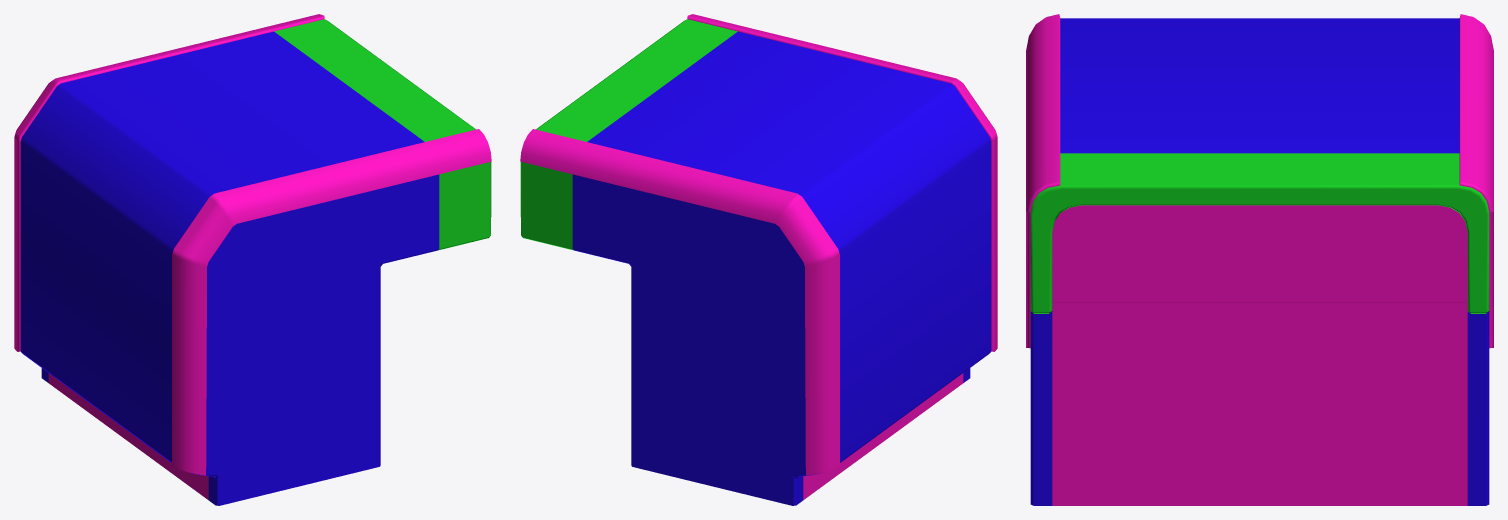
The model's file is PipeConnexion_Metal_01.fbx.
The picture shows the model from 3 angles, left to right: view 1: azimuth 30°, elevation 25°; view 2: azimuth 150°, elevation 25°; view 3: azimuth 270°, elevation 25°; orthographic projection. The views are drawn at different scales.
Parts seen in each view (by area): view 1: PipeConnexion_Metal_01_LOD0; view 2: PipeConnexion_Metal_01_LOD0; view 3: PipeConnexion_Metal_01_LOD0.
Boxes of the visible parts, x1=… form: PipeConnexion_Metal_01_LOD0: x1=14, y1=14, x2=491, y2=505; PipeConnexion_Metal_01_LOD0: x1=520, y1=14, x2=997, y2=505; PipeConnexion_Metal_01_LOD0: x1=1026, y1=14, x2=1493, y2=505.
Size of the model in its own units: 404 by 378 by 408.
